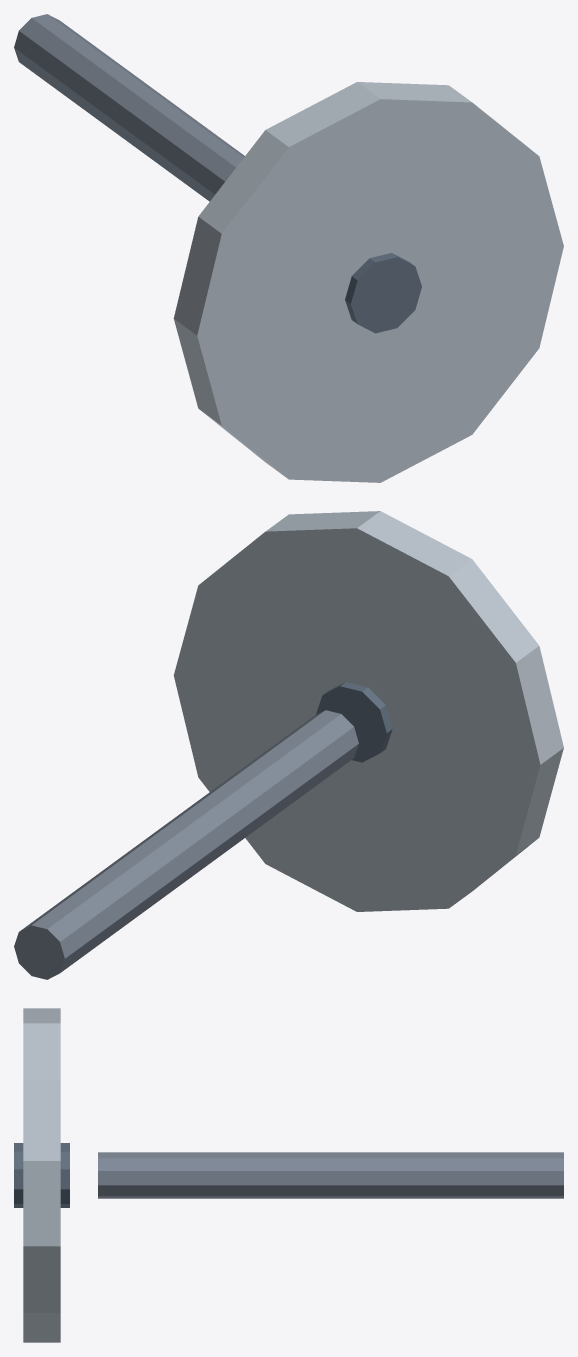
File: fan.glb
3 views of the same model, one above another, from view 1: azimuth 30°, elevation 25°; view 2: azimuth 150°, elevation 25°; view 3: azimuth 270°, elevation 25° (orthographic). The views are drawn at different scales.
Parts seen in each view (by area): view 1: fan_1, stand_0, hub_2; view 2: fan_1, stand_0, hub_2; view 3: stand_0, fan_1, hub_2.
Boxes of the visible parts, x1,y1,x2,y2 form: fan_1: [173, 82, 563, 482]; stand_0: [14, 14, 244, 201]; hub_2: [345, 253, 421, 333]; fan_1: [173, 511, 563, 911]; stand_0: [14, 710, 358, 979]; hub_2: [316, 682, 392, 762]; stand_0: [98, 1152, 563, 1198]; fan_1: [23, 1008, 60, 1342]; hub_2: [14, 1143, 69, 1207].
Bounding box in the file's own units: 0.72 × 0.72 × 1.18.
